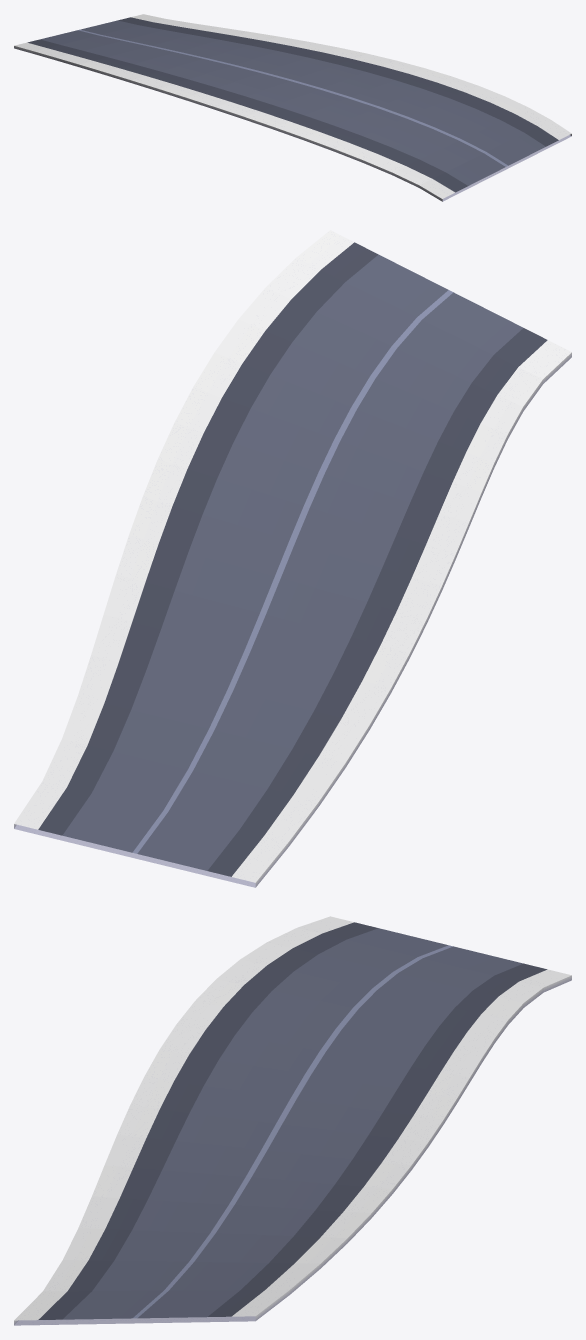
Rendered from road-Chicane-HalfBankedLeft-BiSlopeDown-Down1-Left1-Size4.glb.
The picture shows the model from 3 angles, top to bottom: view 1: azimuth 30°, elevation 25°; view 2: azimuth 150°, elevation 25°; view 3: azimuth 330°, elevation 25°; orthographic projection. The views are drawn at different scales.
Parts seen in each view (by area): view 1: road-Chicane-HalfBankedLeft-BiSlopeDown-Down1-Left1-Size4; view 2: road-Chicane-HalfBankedLeft-BiSlopeDown-Down1-Left1-Size4; view 3: road-Chicane-HalfBankedLeft-BiSlopeDown-Down1-Left1-Size4.
Boxes of the visible parts, x1,y1,x2,y2 form: road-Chicane-HalfBankedLeft-BiSlopeDown-Down1-Left1-Size4: (14,14,571,201); road-Chicane-HalfBankedLeft-BiSlopeDown-Down1-Left1-Size4: (14,230,571,887); road-Chicane-HalfBankedLeft-BiSlopeDown-Down1-Left1-Size4: (14,916,571,1325).
Size of the model in its own units: 2 by 0.52 by 4.
1 material, 1 textured.
